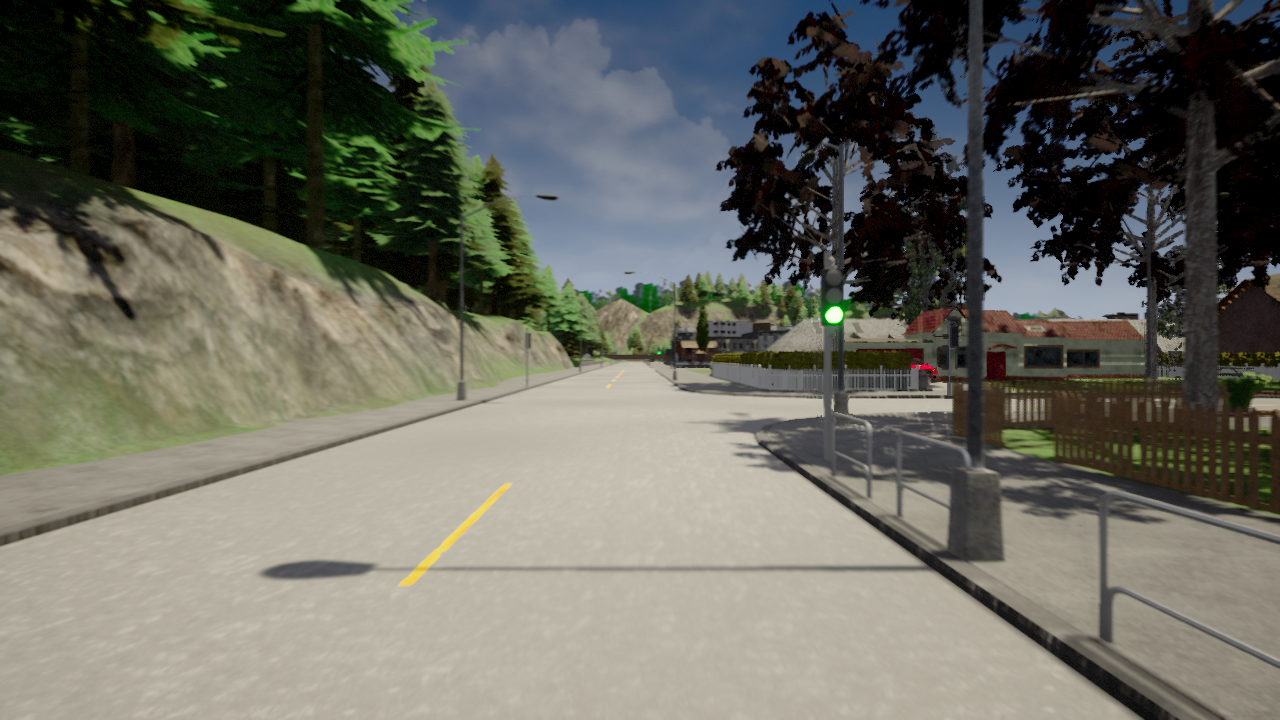green: (819, 267, 843, 326)
